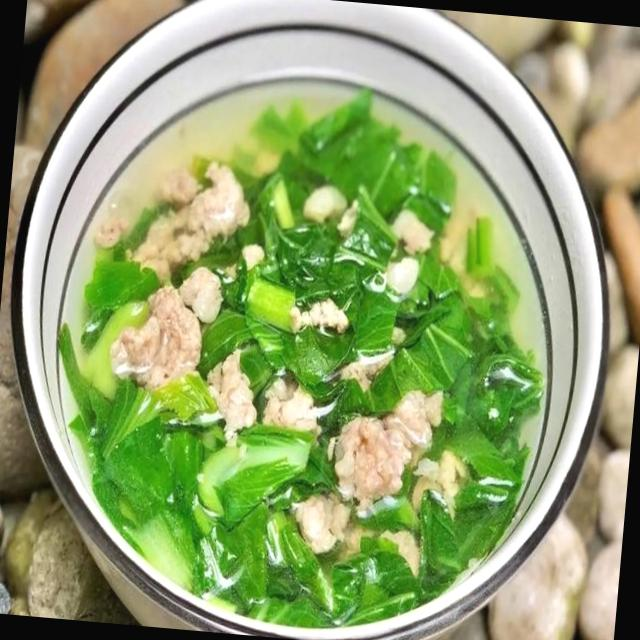canh cai: (57, 88, 546, 633)
